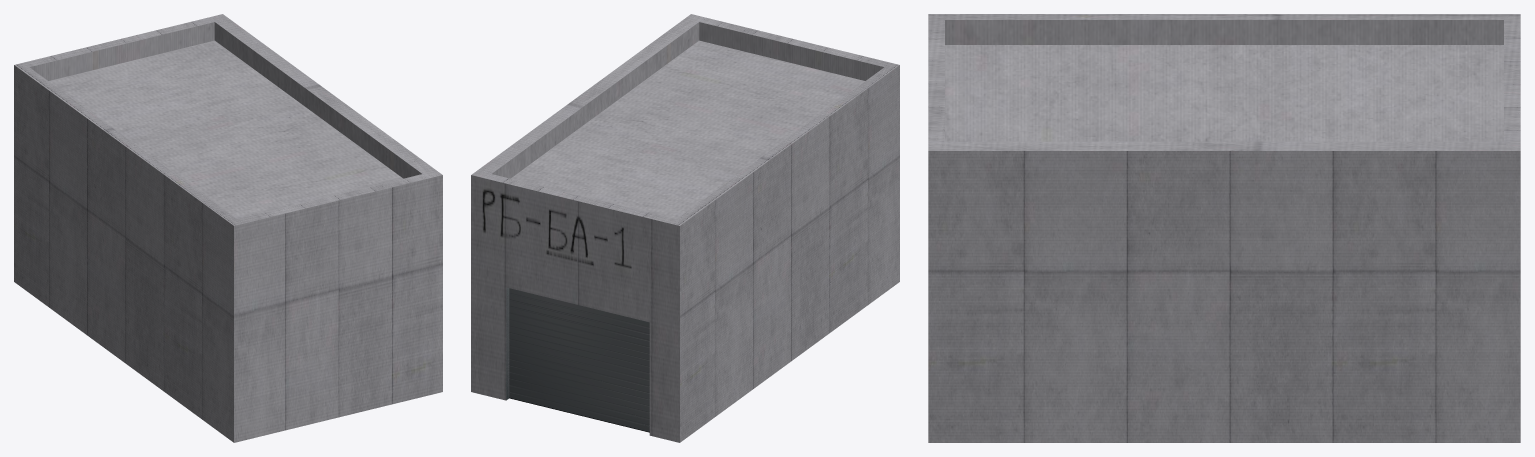
The model's file is angar.fbx.
The picture shows the model from 3 angles, left to right: view 1: azimuth 30°, elevation 25°; view 2: azimuth 150°, elevation 25°; view 3: azimuth 270°, elevation 25°; orthographic projection. The views are drawn at different scales.
Parts seen in each view (by area): view 1: Cube; view 2: Cube; view 3: Cube.
Boxes of the visible parts, x1,y1,x2,y2 form: Cube: [14, 14, 442, 442]; Cube: [471, 14, 899, 442]; Cube: [928, 14, 1520, 442].
Size of the model in its own units: 2000 by 1986 by 3651.
